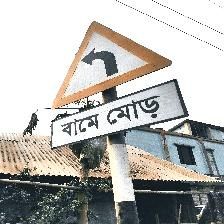Left-Turn: (47, 20, 184, 151)
